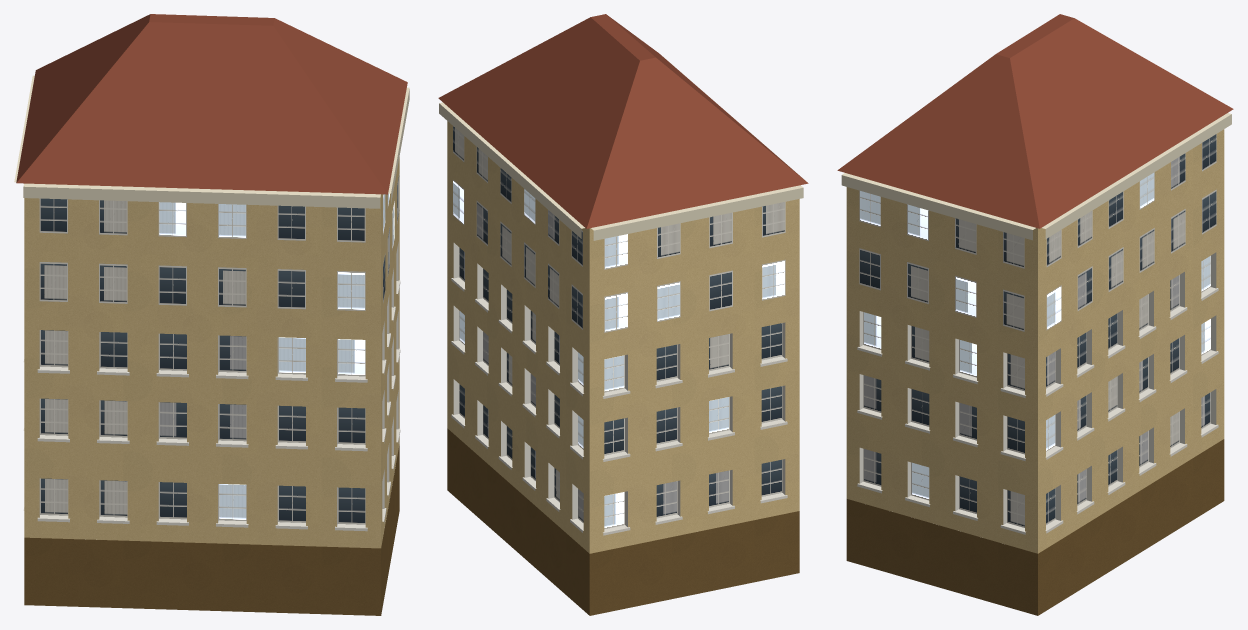
The model's file is z5c_letzi_ocker.glb.
3 views of the same model, side by side, from view 1: azimuth 30°, elevation 25°; view 2: azimuth 150°, elevation 25°; view 3: azimuth 270°, elevation 25° (orthographic). The views are drawn at different scales.
Visible parts, largest first — view 1: z5c_letzi_ocker; view 2: z5c_letzi_ocker; view 3: z5c_letzi_ocker.
Part boxes in pixels (box(x1,y1,x2,y2)): z5c_letzi_ocker: box(14, 14, 409, 615); z5c_letzi_ocker: box(438, 14, 808, 615); z5c_letzi_ocker: box(837, 14, 1233, 615).
Size of the model in its own units: 18.46 by 23.87 by 17.35.
3 materials, 3 textured.
